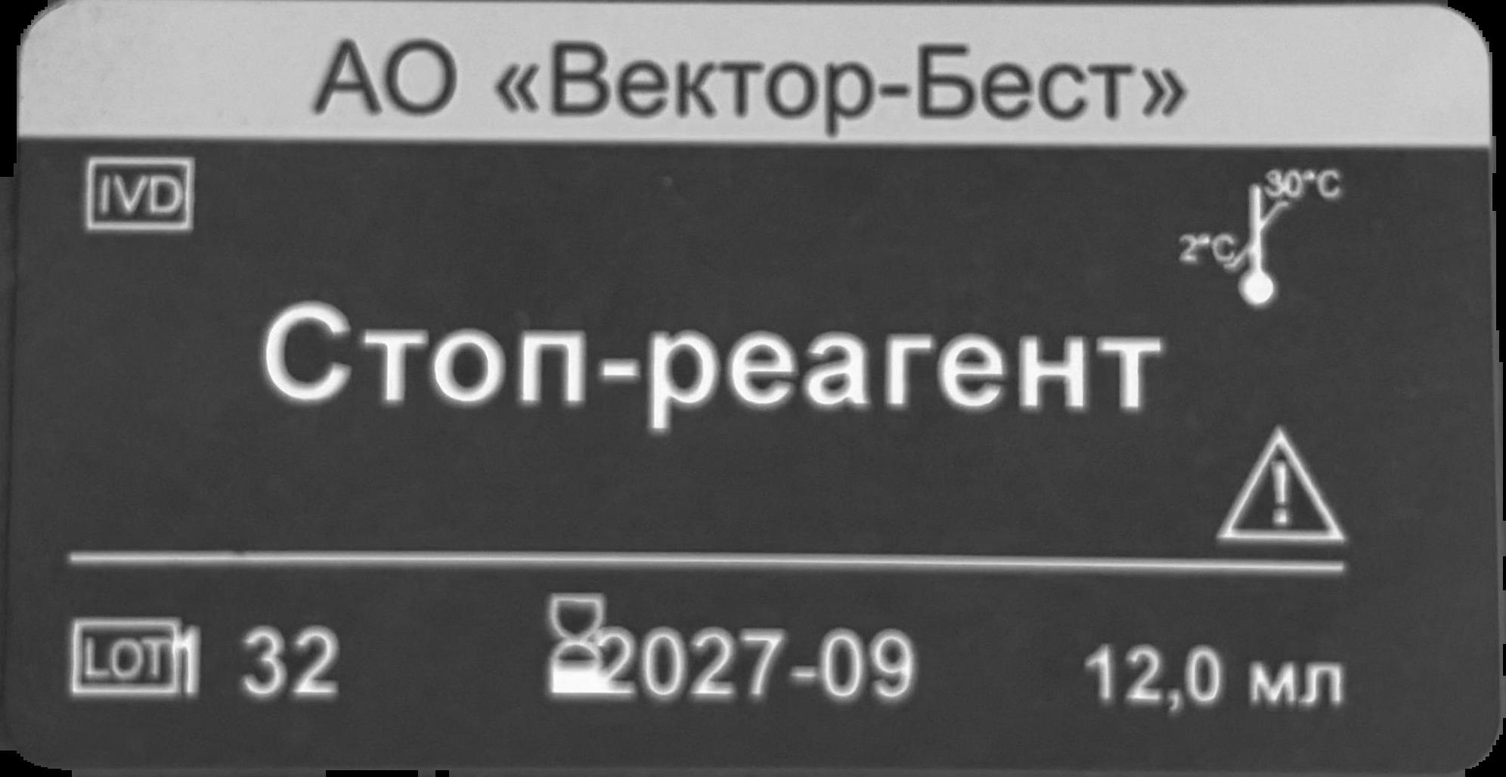something: (1175, 167, 1347, 308), (1216, 427, 1353, 549), (65, 616, 179, 703), (82, 151, 195, 231), (544, 591, 605, 703)
text: (260, 301, 1165, 435), (310, 32, 1192, 143), (598, 619, 921, 708), (1088, 643, 1350, 719), (168, 623, 349, 704)
